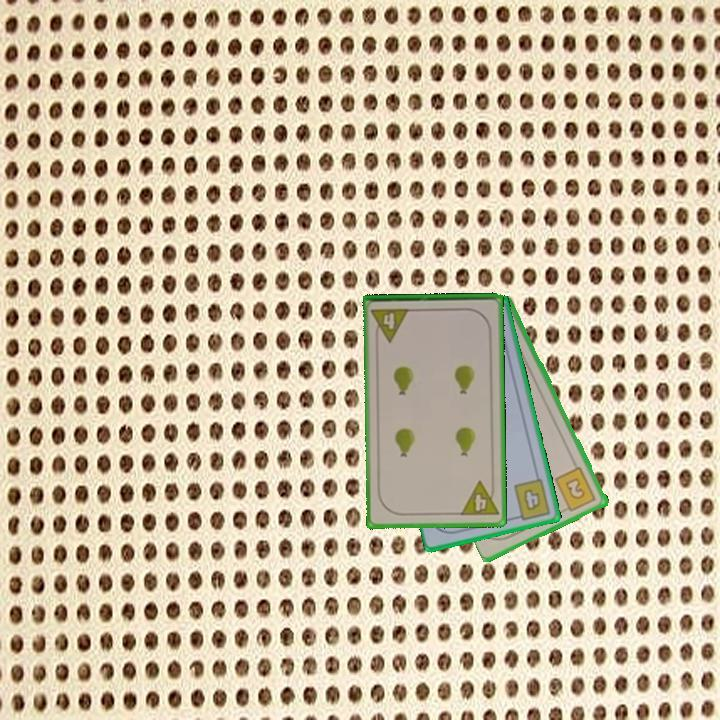2b: (552, 464, 599, 514)
4b: (510, 475, 554, 523)
4p: (457, 478, 501, 519), (368, 305, 412, 344)
